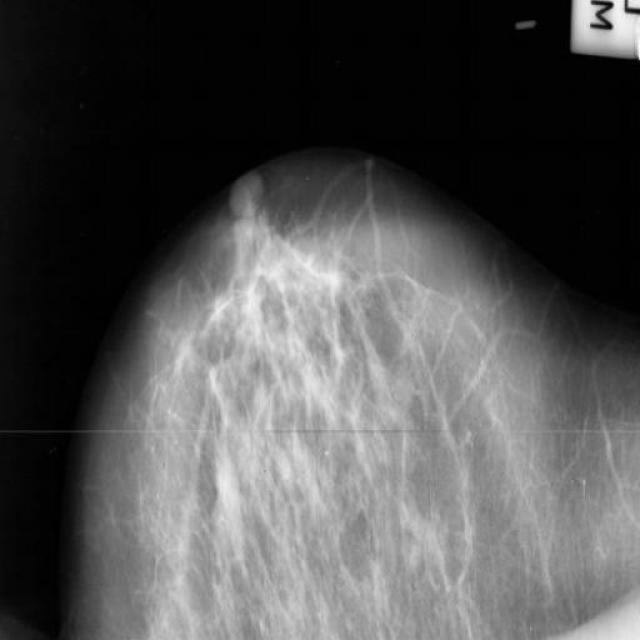cancer: (276, 226, 375, 354)
